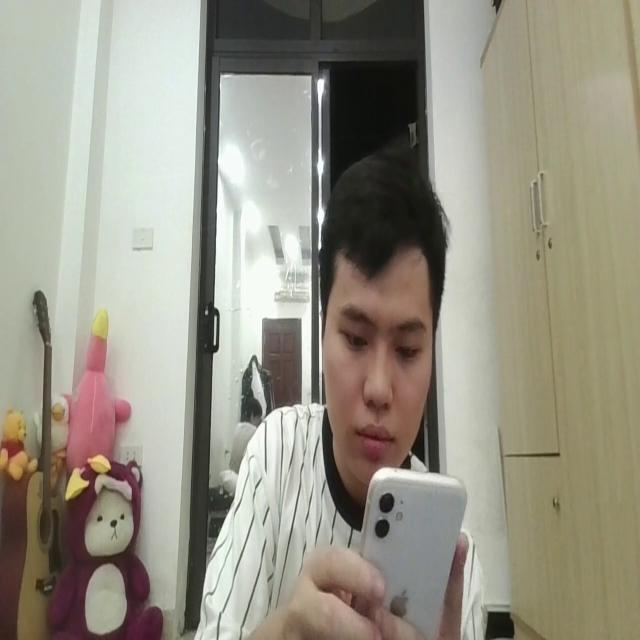phone: (353, 462, 465, 640)
student: (198, 143, 485, 640)
